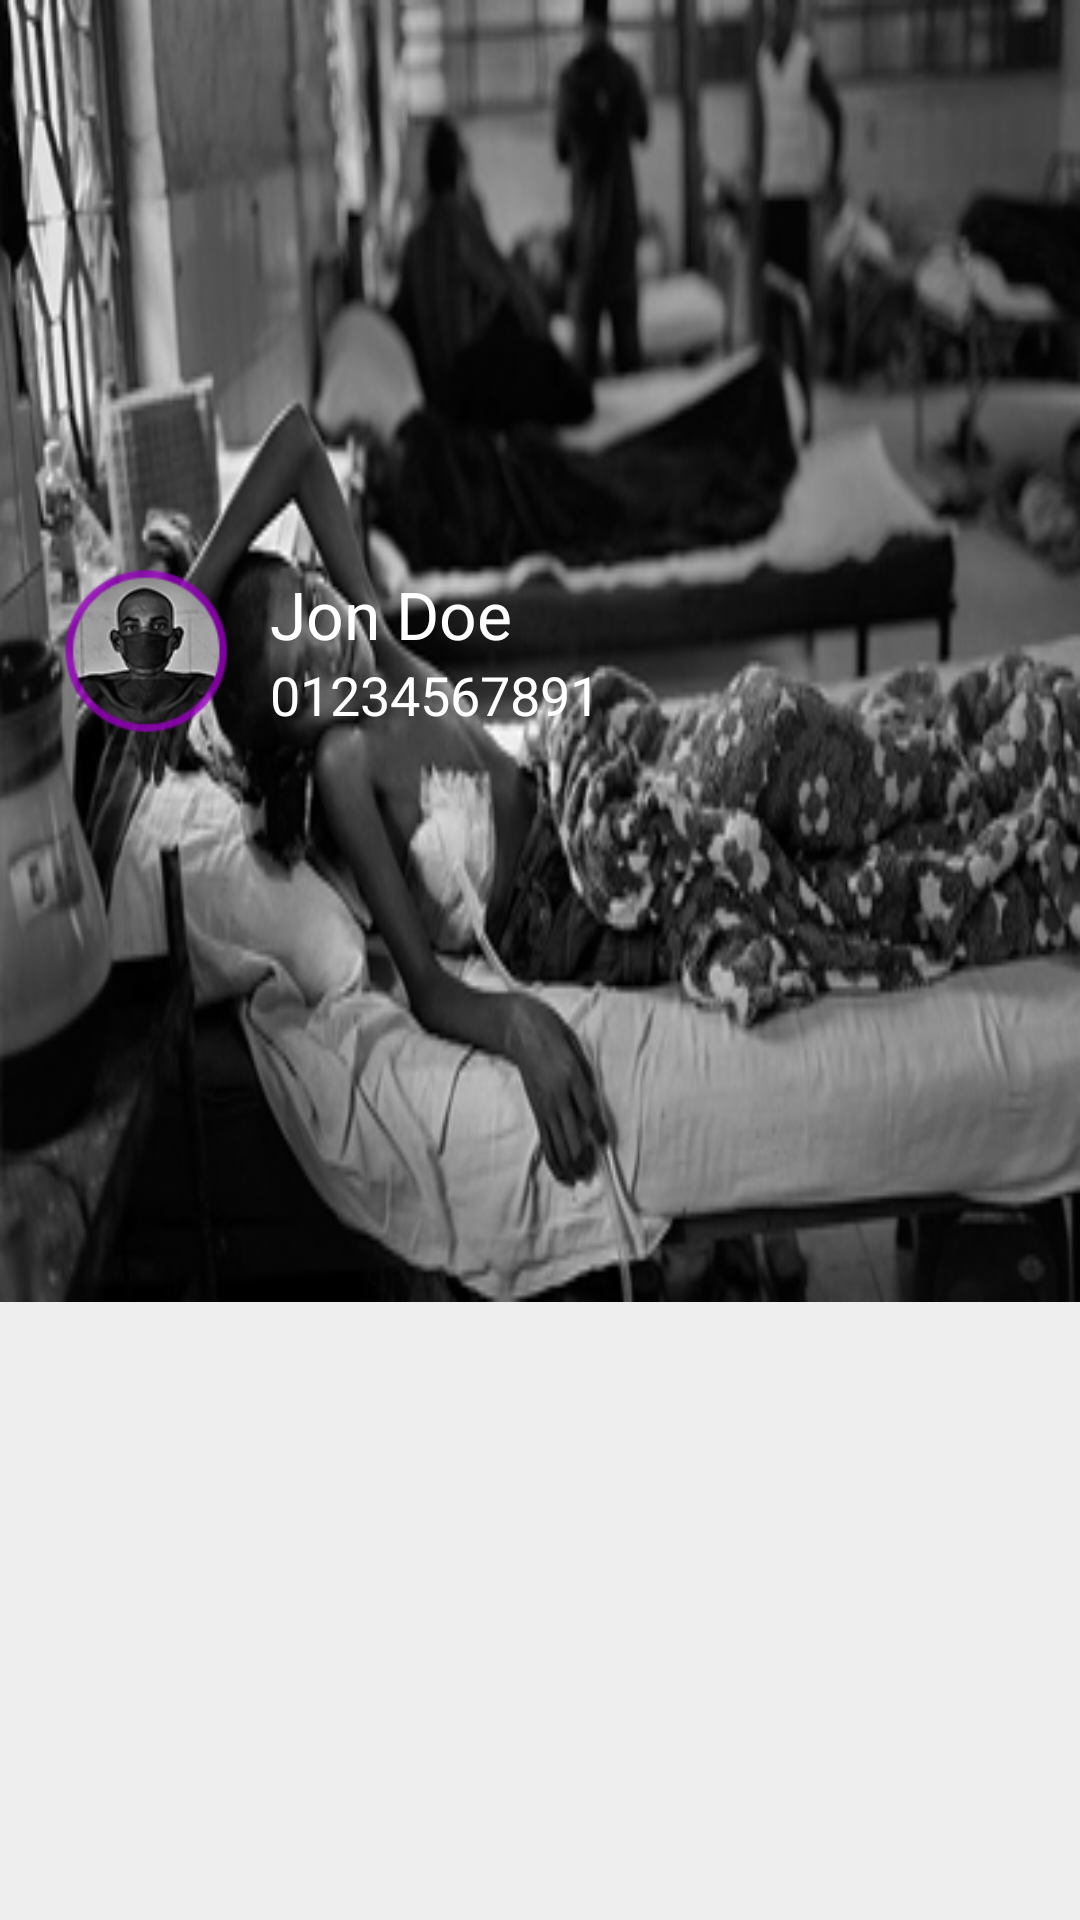

Where to tap for icons on this 1080w x 1920h app screen, as point (x, y):
pro: point (150, 651)
